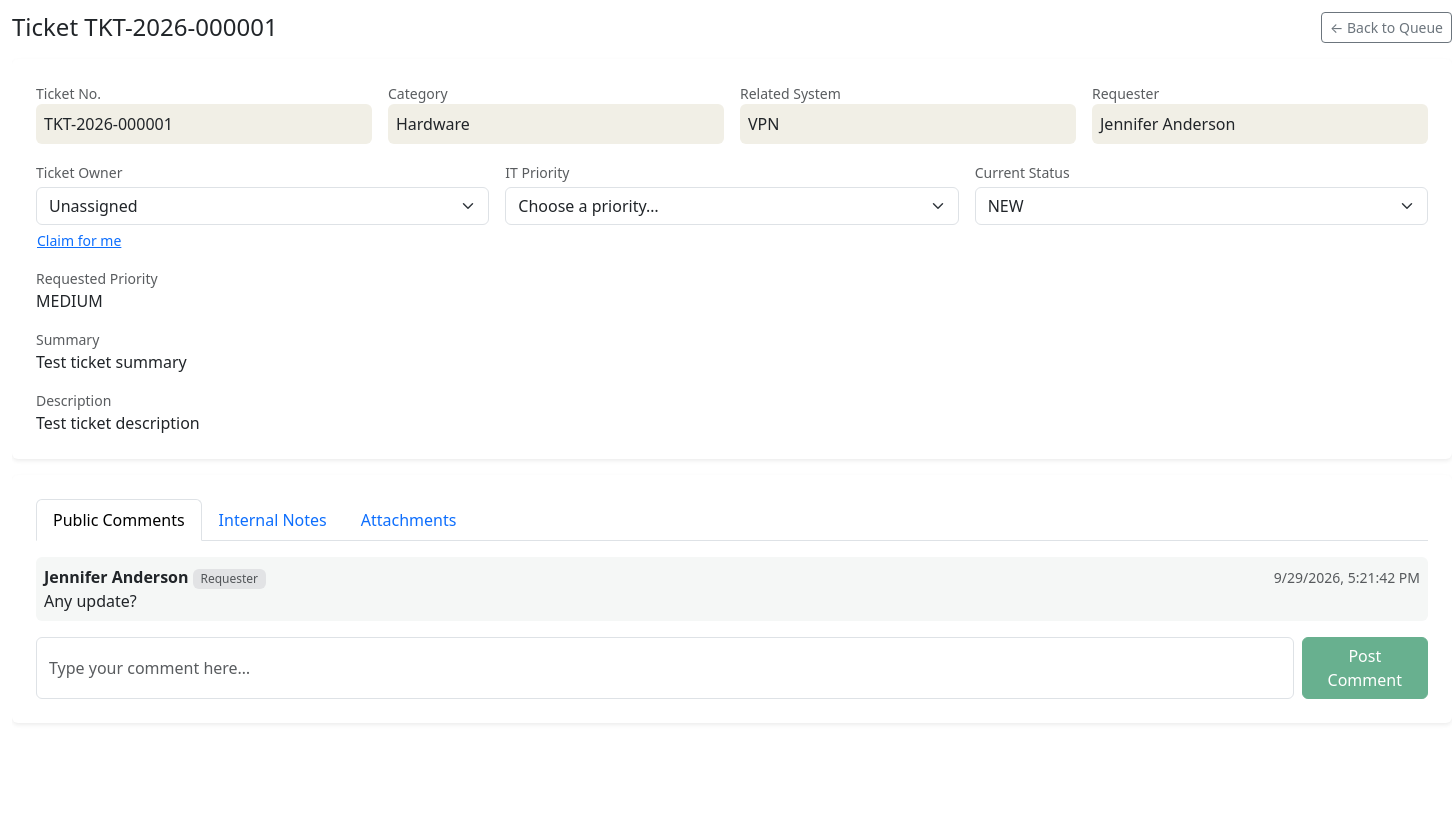
Test: StaffTicketDetail › shows Public Comments and Internal Notes as separate tabs with distinct content
Check: the text "Any update?" is shown, box [44,590,137,612]
Check: the text "Escalated to vendor." is not shown
Click the button with aria-label "Internal Notes, staff only".
click(273, 520)  # box [202,499,344,541]
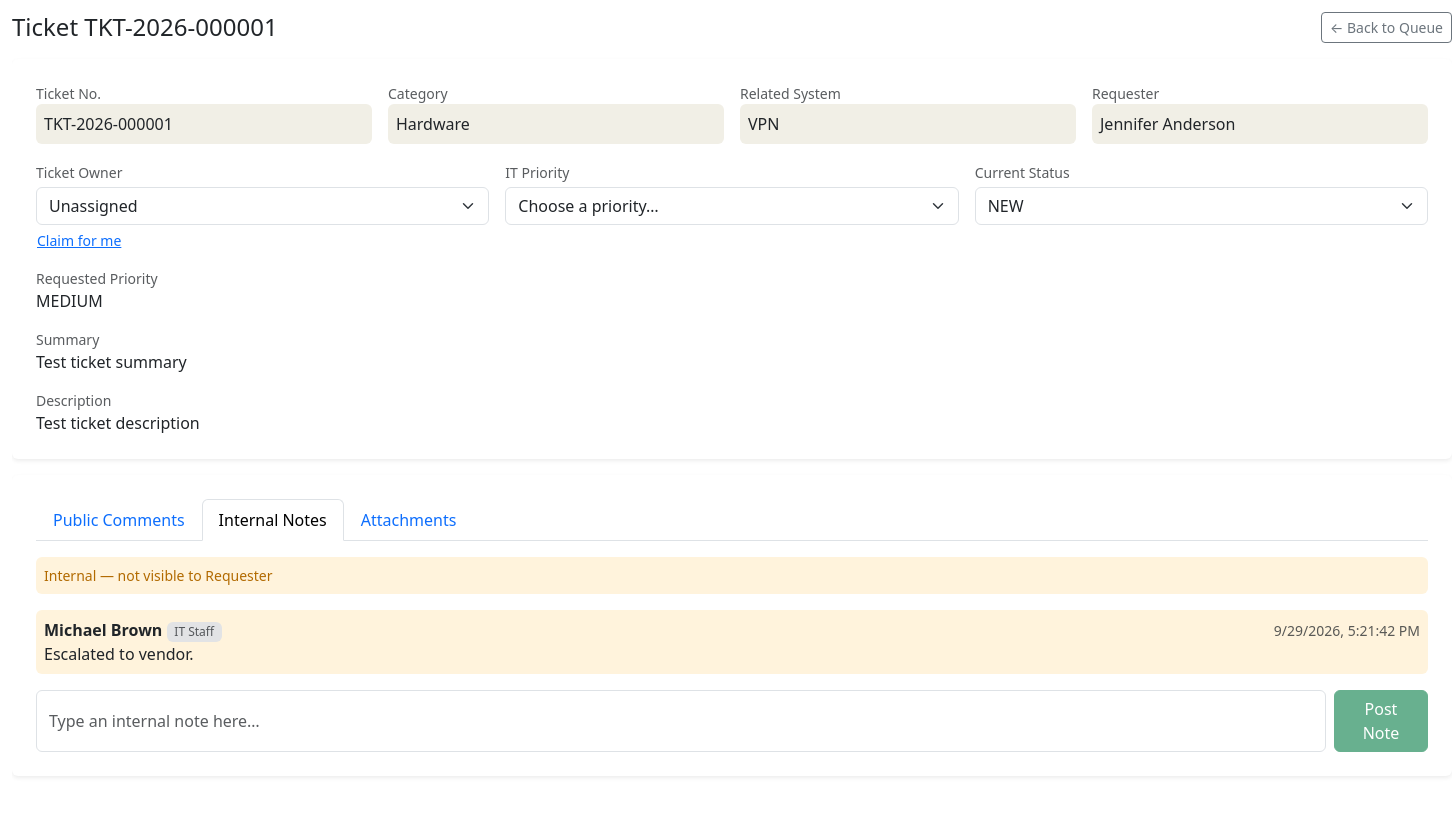
Check: the text "Escalated to vendor." is shown, box [44,643,194,665]
Check: the text "Any update?" is gone
Check: the text "Internal — not visible to Requester" is shown, box [36,557,1428,594]
